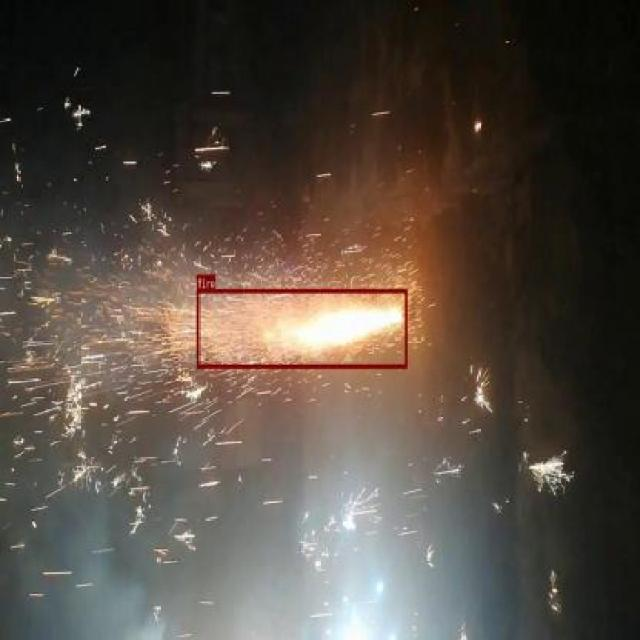Fire: (196, 288, 407, 367)
